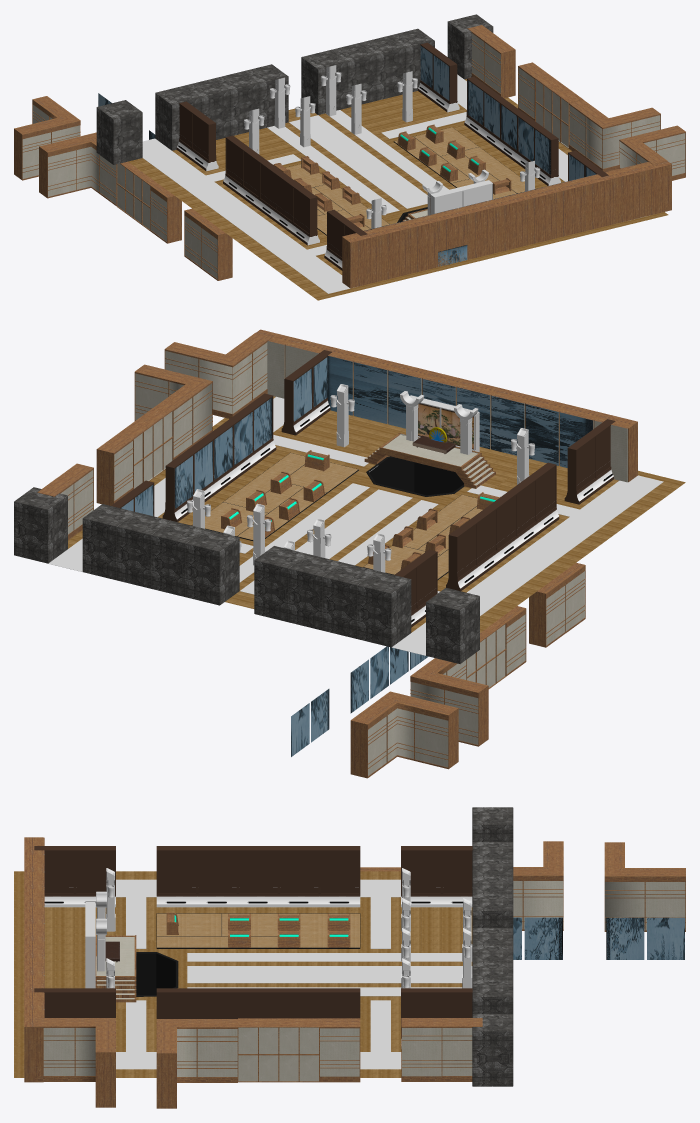
The model's file is EmperorRoom_Base.FBX.
The picture shows the model from 3 angles, top to bottom: view 1: azimuth 30°, elevation 25°; view 2: azimuth 150°, elevation 25°; view 3: azimuth 270°, elevation 25°; orthographic projection. The views are drawn at different scales.
Visible parts, largest first — view 1: Object005, tatani_form001, Plane020, Plane032, Plane036, Plane018, tatani_form002, Plane008, Plane007, Plane005, Plane002, Plane010 (+88 smaller); view 2: Object002, Object005, tatani_form001, Object006, Plane022, Plane034, es_st_side_end_4x2_A_003, es_ob_hole_na_10x8_APuente_, tatani_form002, Plane035, Plane014, Plane032 (+66 smaller); view 3: Object006, tatani_form002, Plane015, Plane014, Plane017, Plane018, Plane016, Plane024, Plane033, Plane031, Plane035, Plane019 (+77 smaller).
Part boxes in pixels (box(x1,y1,x2,y2)): Object005: box(420, 46, 595, 180); tatani_form001: box(393, 127, 536, 199); Plane020: box(585, 112, 631, 172); Plane032: box(39, 139, 76, 198); Plane036: box(342, 229, 379, 288); Plane018: box(484, 37, 515, 98); tatani_form002: box(285, 164, 389, 235); Plane008: box(547, 179, 584, 238); Plane007: box(518, 187, 554, 245); Plane005: box(459, 201, 496, 259); Plane002: box(371, 222, 408, 281); Plane010: box(605, 165, 642, 224); Object002: box(327, 356, 592, 467); Object005: box(121, 357, 327, 515); tatani_form001: box(191, 452, 358, 540); Object006: box(291, 646, 428, 756); Plane022: box(199, 347, 252, 418); Plane034: box(414, 699, 458, 769); es_st_side_end_4x2_A_003: box(364, 432, 495, 488); es_ob_hole_na_10x8_APuente_: box(366, 456, 464, 496); tatani_form002: box(363, 494, 482, 579); Plane035: box(350, 706, 387, 778); Plane014: box(96, 434, 133, 505); Plane032: box(444, 677, 488, 746); Object006: box(513, 917, 684, 959); tatani_form002: box(156, 913, 360, 948); Plane015: box(278, 1018, 319, 1082); Plane014: box(319, 1018, 360, 1082); Plane017: box(238, 1018, 278, 1082); Plane018: box(401, 1018, 441, 1081); Plane016: box(197, 1019, 237, 1082); Plane024: box(34, 1018, 75, 1081); Plane033: box(604, 859, 645, 931); Plane031: box(523, 858, 563, 930); Plane035: box(645, 868, 685, 931); Plane019: box(442, 1018, 482, 1081).
Bounding box in the file's own units: 62 × 13.02 × 65.96.
